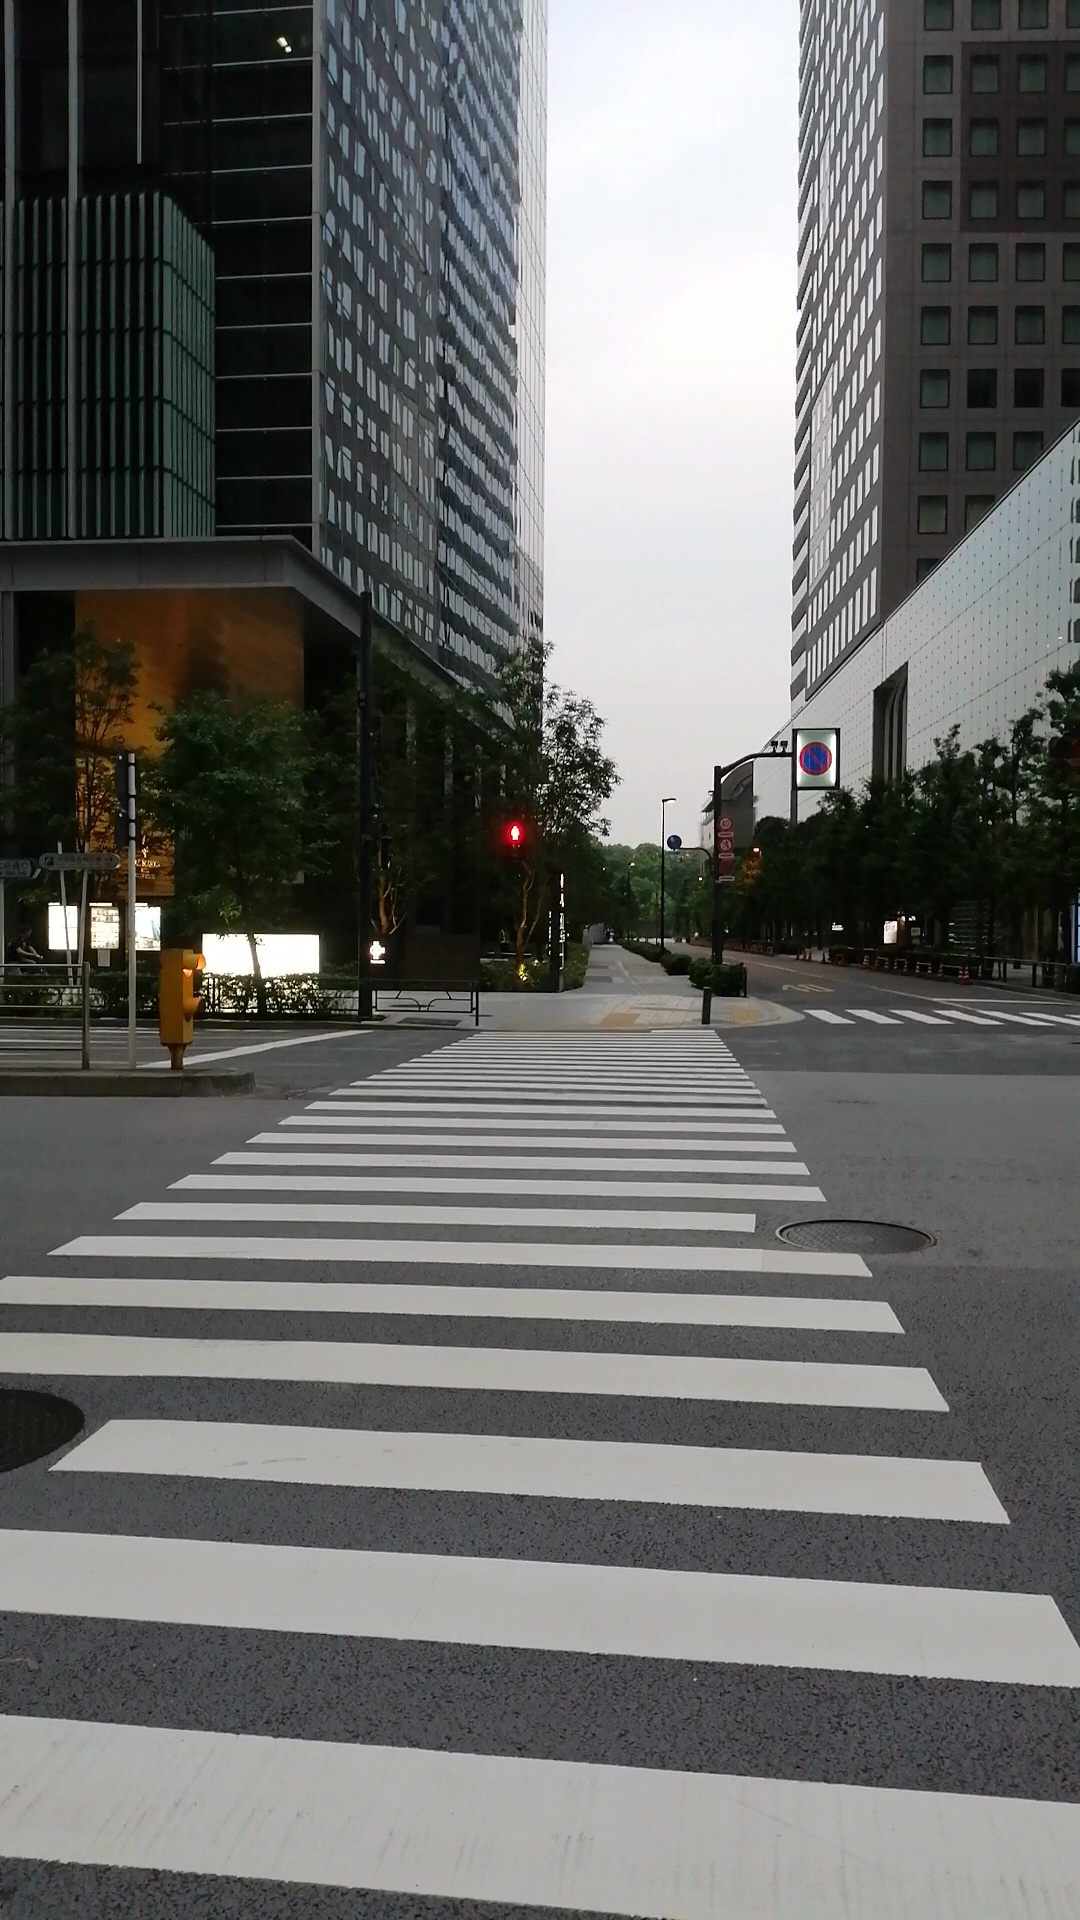red: (500, 818, 529, 868)
